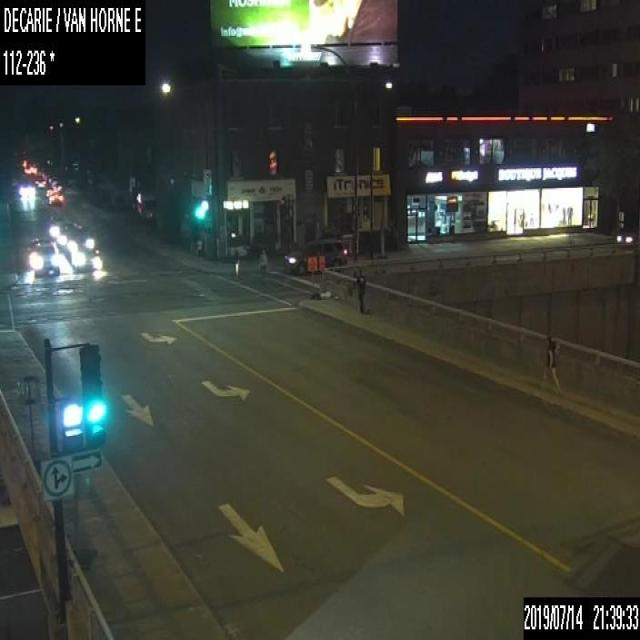construction: (70, 470, 98, 569), (19, 374, 42, 474), (306, 253, 317, 299), (317, 254, 325, 298)
pedestrian: (538, 333, 560, 395), (258, 245, 268, 278), (356, 274, 364, 314)
vehicle: (283, 236, 347, 271), (64, 224, 92, 257), (32, 243, 59, 275), (72, 245, 101, 270), (137, 190, 153, 224), (616, 227, 639, 245), (18, 181, 34, 197), (48, 189, 63, 204)
